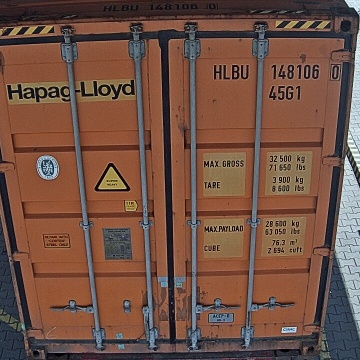serial_id: (213, 63, 340, 79)
